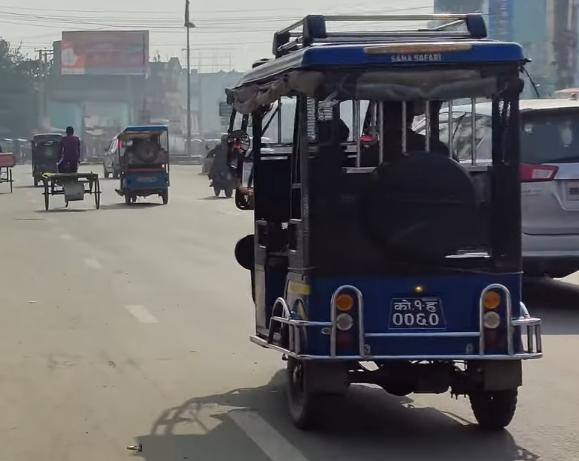e-rickshaw: (229, 20, 552, 438), (119, 123, 177, 207)
